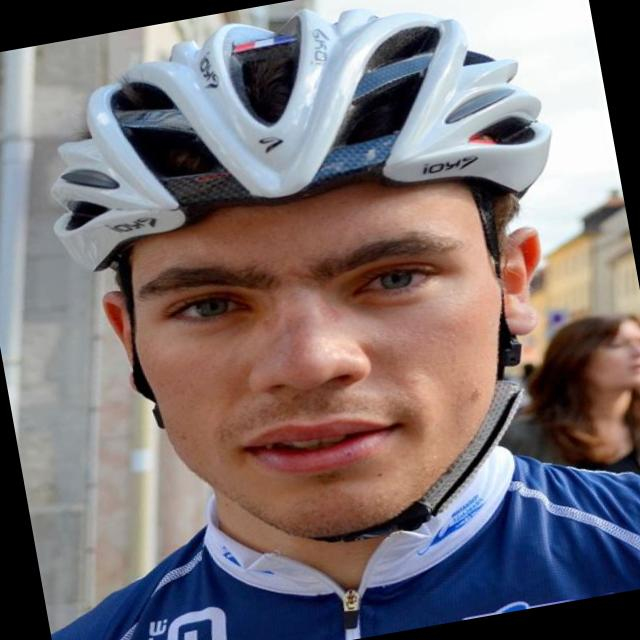With Helmet: (20, 0, 618, 578)
